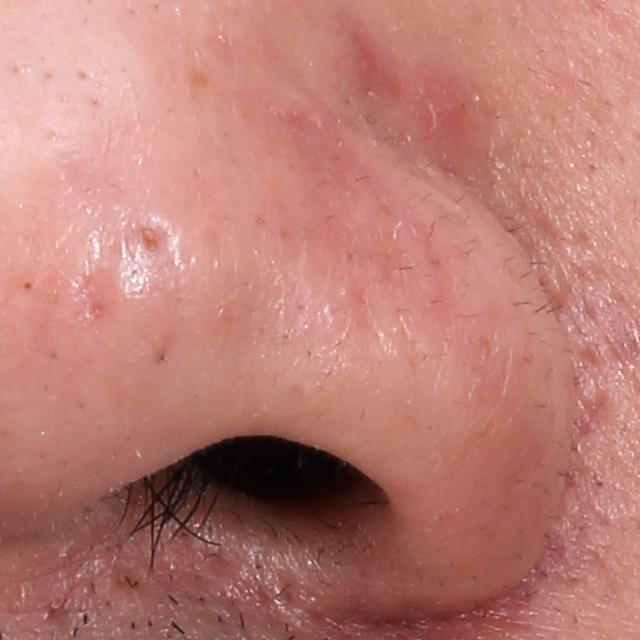atrophic_scar: (65, 263, 128, 343), (134, 216, 171, 262)
